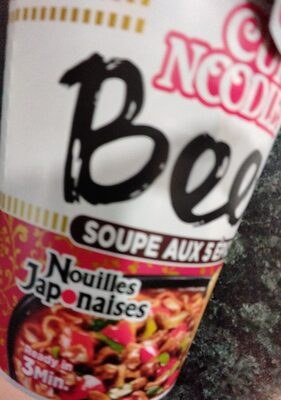Coup Noodles Beef: (14, 20, 267, 380)
